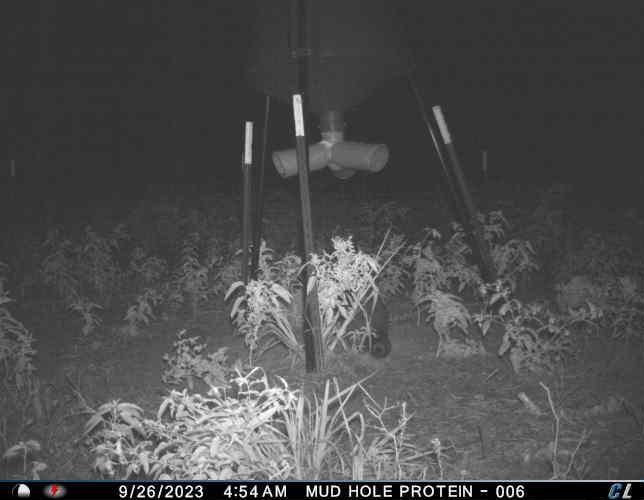Raccoon: (348, 286, 395, 361)
